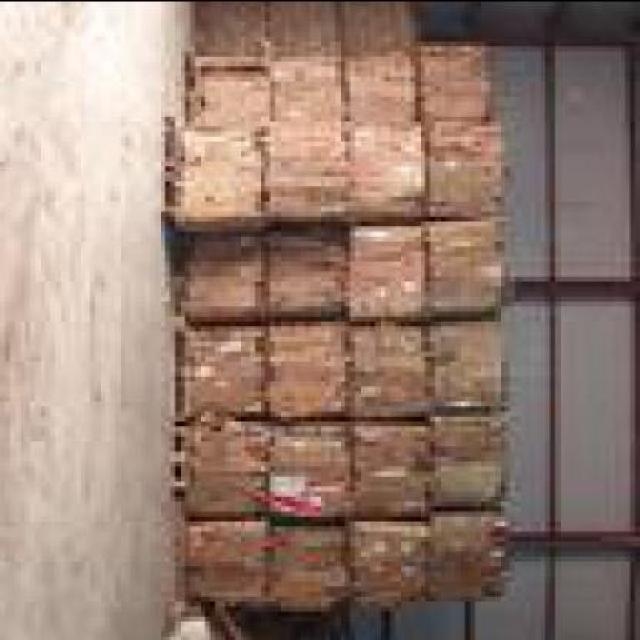CARDBOARD: (190, 426, 275, 526), (190, 325, 270, 430), (266, 135, 354, 230), (426, 510, 514, 605), (184, 134, 264, 234), (430, 226, 510, 326), (270, 326, 350, 426), (276, 426, 356, 526), (355, 420, 430, 525), (350, 130, 430, 225), (350, 230, 430, 325), (436, 325, 516, 420), (350, 331, 435, 420), (435, 126, 510, 226), (436, 420, 516, 509), (190, 236, 270, 324), (264, 235, 344, 320), (196, 525, 276, 610), (350, 520, 425, 609), (274, 526, 346, 614), (420, 44, 495, 124), (200, 60, 275, 135), (345, 54, 420, 126), (275, 65, 340, 130), (335, 5, 420, 54), (200, 5, 271, 60), (275, 5, 340, 60)
